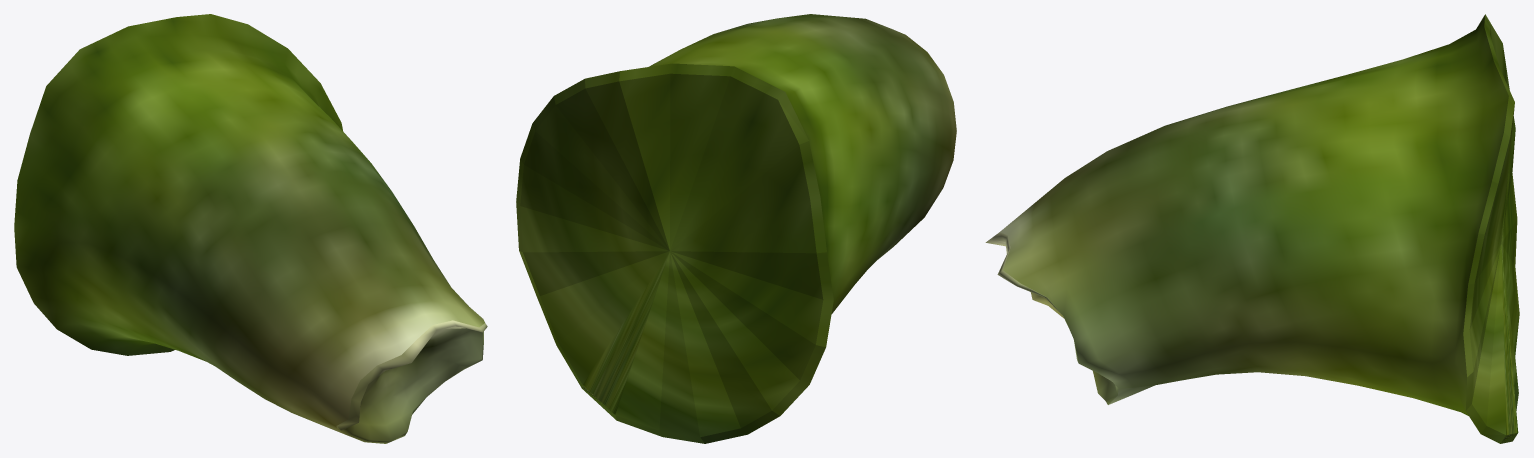
File: TomatoPedicel.obj
The picture shows the model from 3 angles, left to right: view 1: azimuth 30°, elevation 25°; view 2: azimuth 150°, elevation 25°; view 3: azimuth 270°, elevation 25°; orthographic projection. The views are drawn at different scales.
Parts seen in each view (by area): view 1: TomatoPedicel; view 2: TomatoPedicel; view 3: TomatoPedicel.
Boxes of the visible parts, <box> form: TomatoPedicel: <box>14,14,487,443</box>; TomatoPedicel: <box>516,14,956,443</box>; TomatoPedicel: <box>985,14,1519,443</box>.
Size of the model in its own units: 0.00665 by 0.00701 by 0.00914.
Materials: 1 (1 with a texture image).
